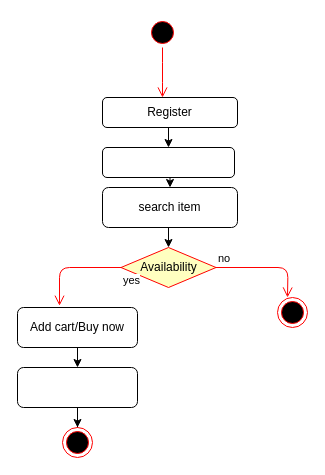
This 325x475 diagram has some shape labels left out. The centre of each missing label's shape, as x and y in pixels:
"Login" goes at (168,162).
"order item" goes at (77,387).
